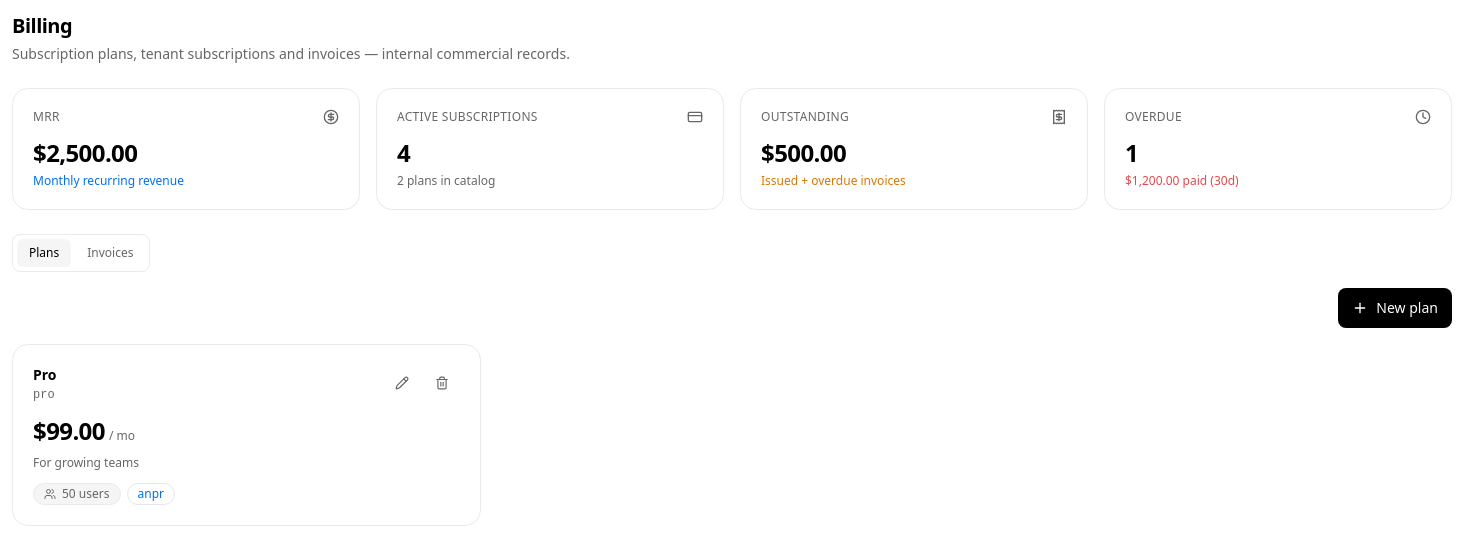
Scenario: invoices › stops offering Mark paid once an invoice is paid, but can still void it
The width and height of the screenshot is (1464, 543).
Click the tab "Invoices".
click(110, 253)  # box x1=75 y1=239 x2=146 y2=267
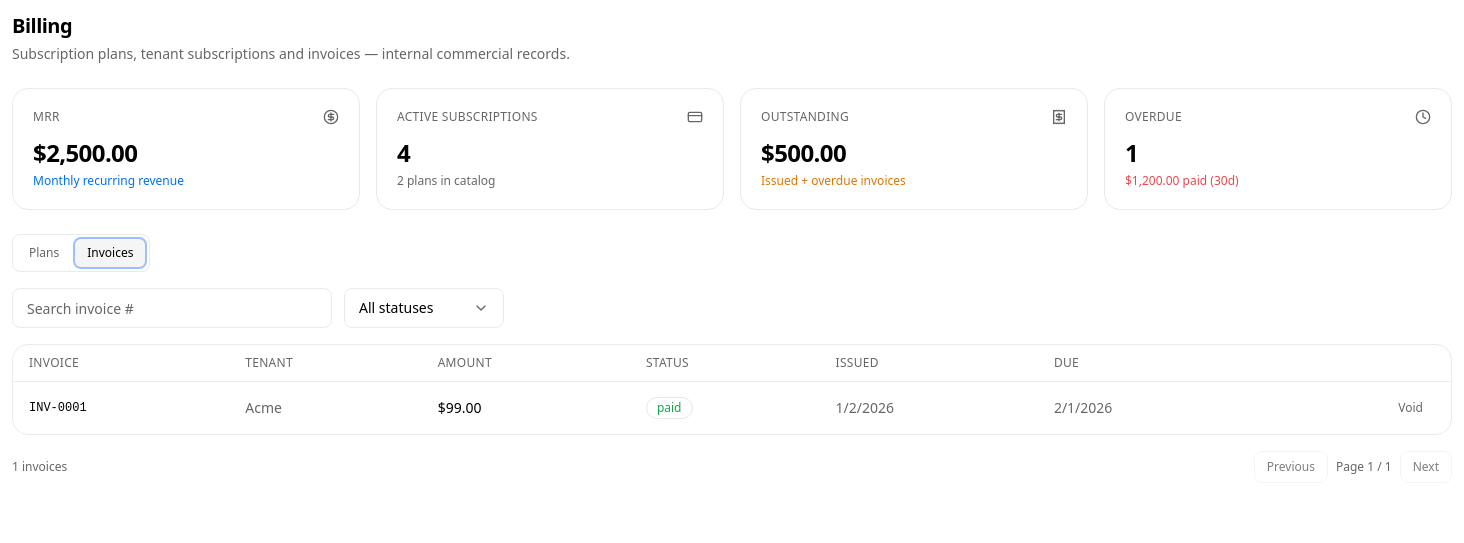
expect the text "INV-0001" is shown: met, box x1=13 y1=382 x2=229 y2=434
expect the button "Void" is shown: met, box x1=1386 y1=392 x2=1435 y2=424
